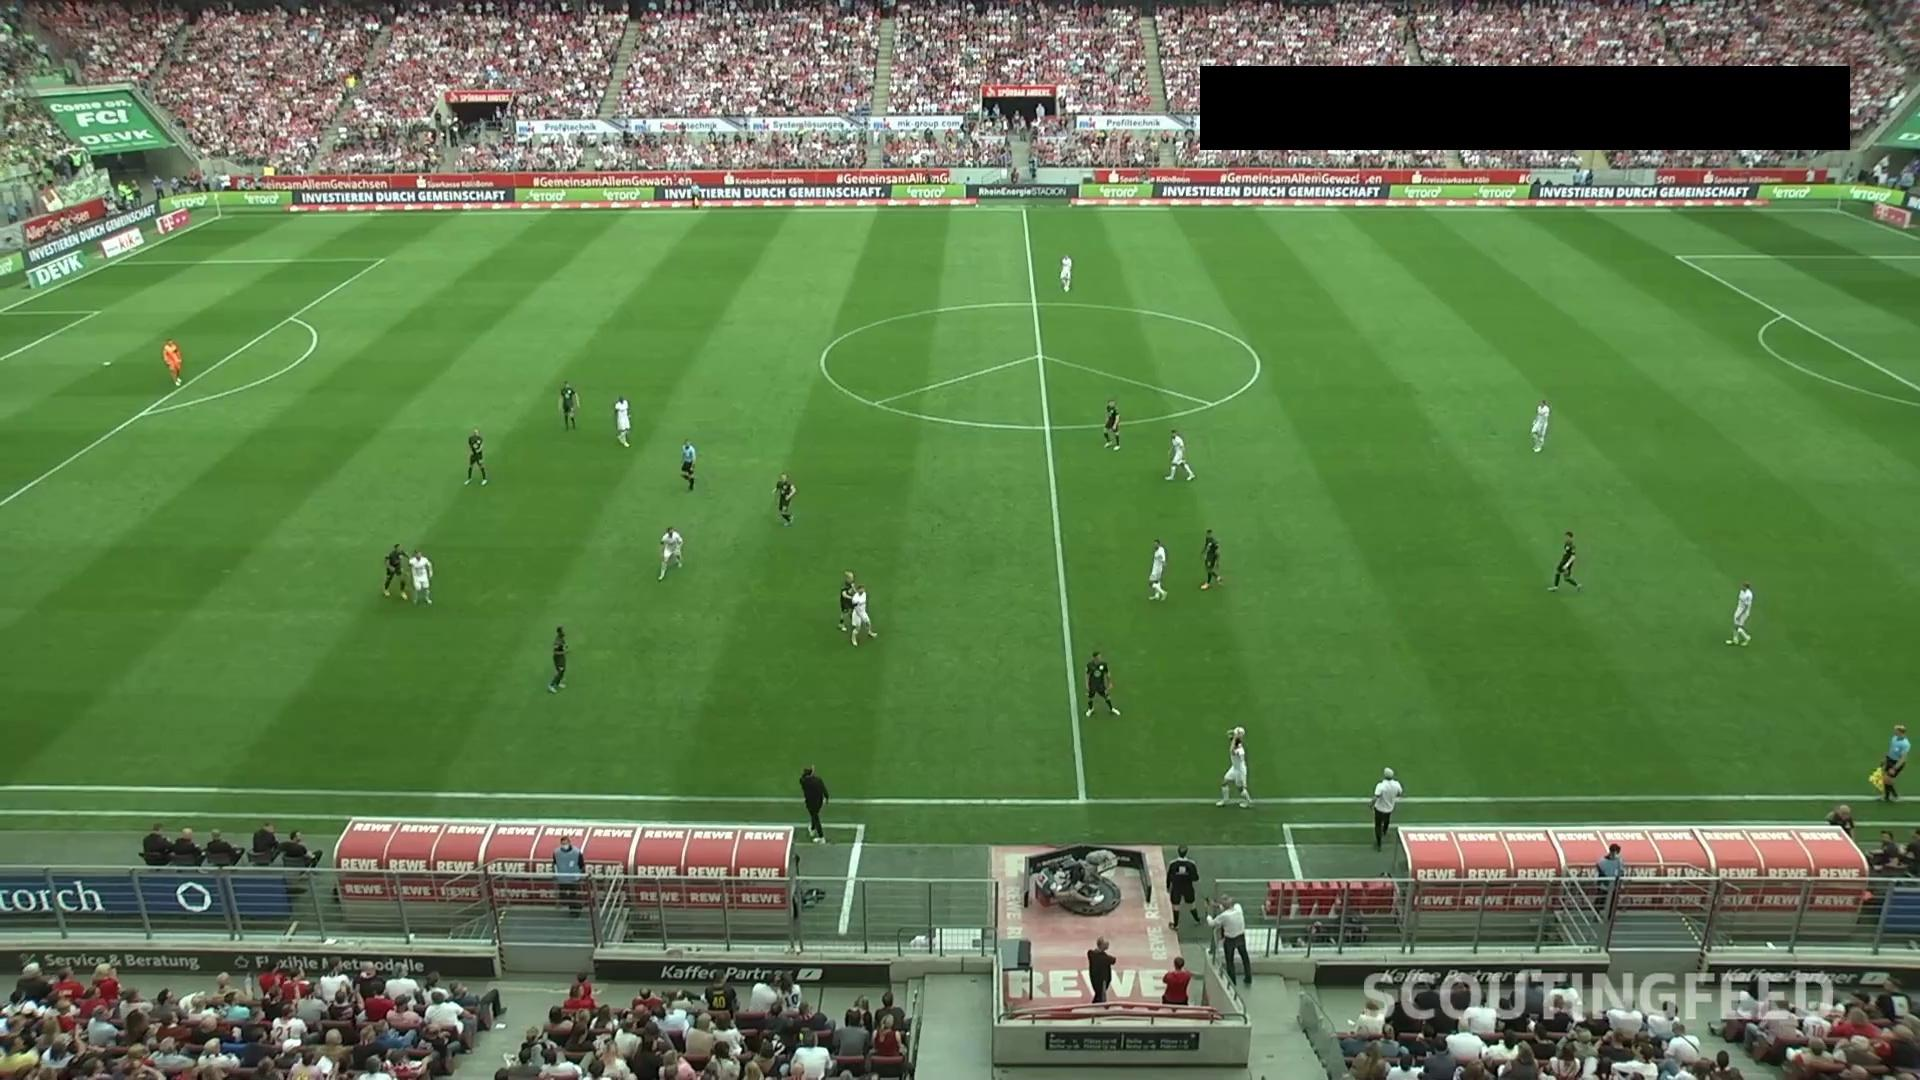Location-of-ball: (1217, 716, 1255, 745)
